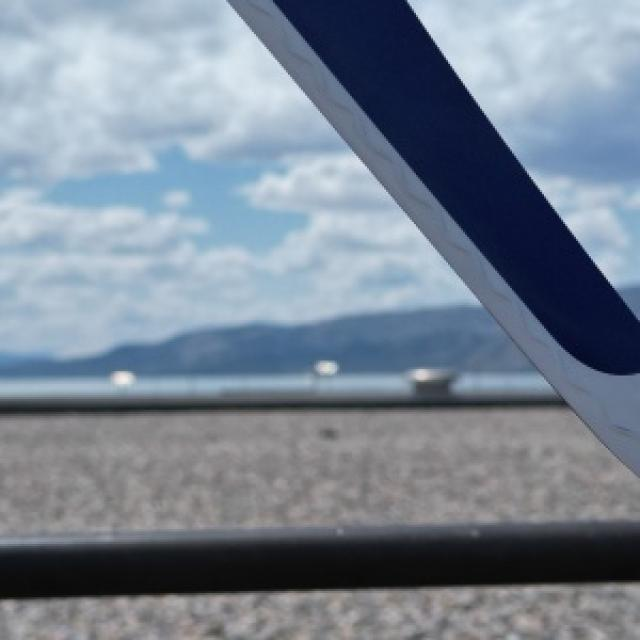healthy: (0, 582, 638, 638)
